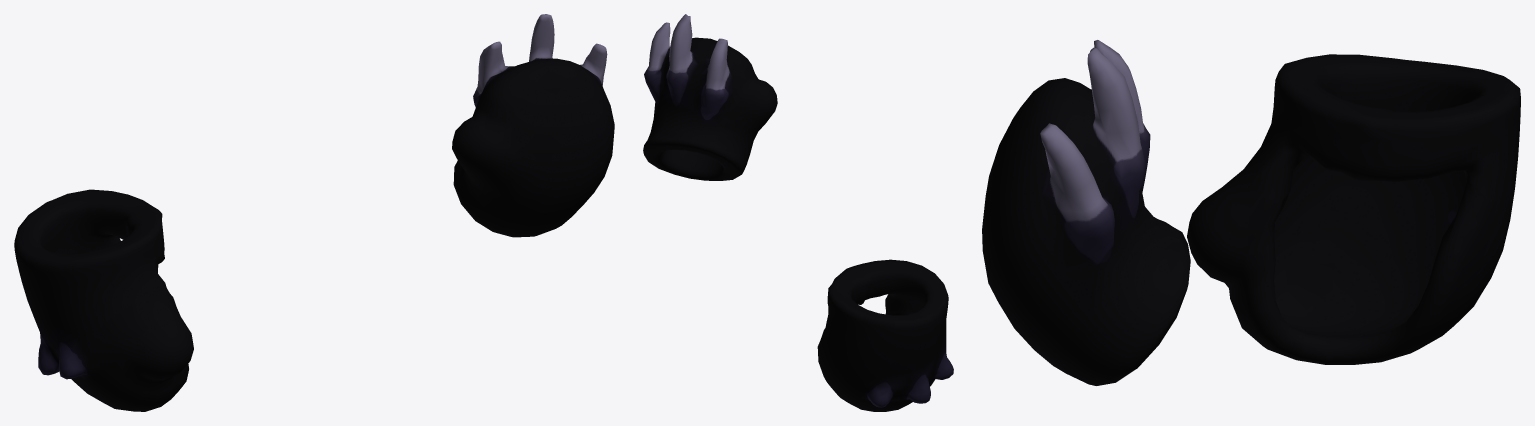
Rendered from WolverineHands1.glb.
3 views of the same model, side by side, from view 1: azimuth 30°, elevation 25°; view 2: azimuth 150°, elevation 25°; view 3: azimuth 270°, elevation 25° (orthographic). The views are drawn at different scales.
Visible parts, largest first — view 1: Wolverine Hands1; view 2: Wolverine Hands1; view 3: Wolverine Hands1.
Boxes of the visible parts, x1,y1,x2,y2 form: Wolverine Hands1: (14, 14, 614, 411); Wolverine Hands1: (643, 14, 953, 411); Wolverine Hands1: (982, 40, 1520, 385).
Size of the model in its own units: 0.0143 by 0.0104 by 0.00903.
1 material, 1 textured.
